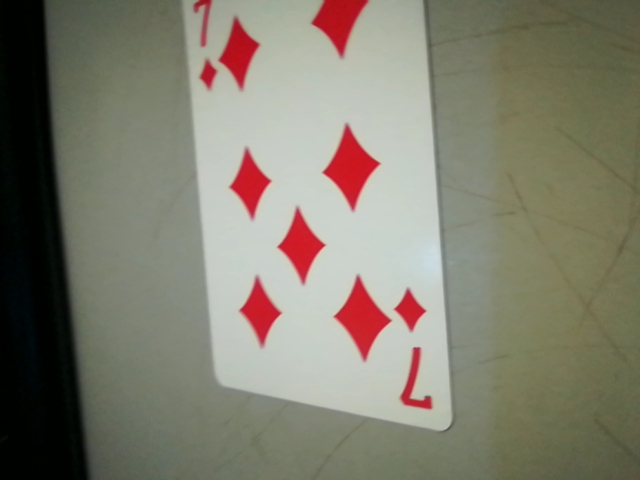fk 7: (385, 279, 441, 422)
